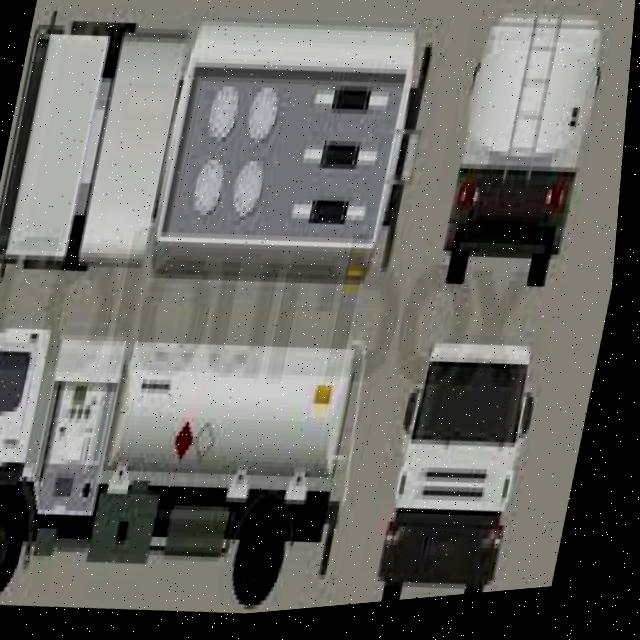truck: (0, 0, 441, 321), (0, 295, 387, 640), (438, 11, 610, 312), (382, 334, 553, 610)
